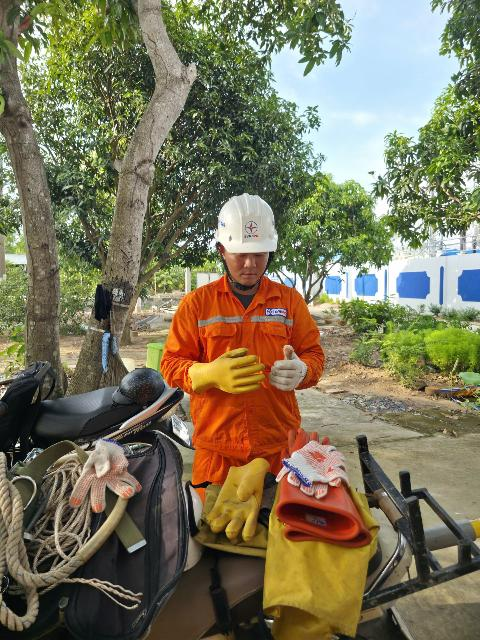gloves: (278, 419, 363, 544), (201, 456, 269, 552), (176, 338, 262, 401), (72, 428, 134, 515), (248, 344, 316, 404)
helmet: (216, 189, 292, 267)
